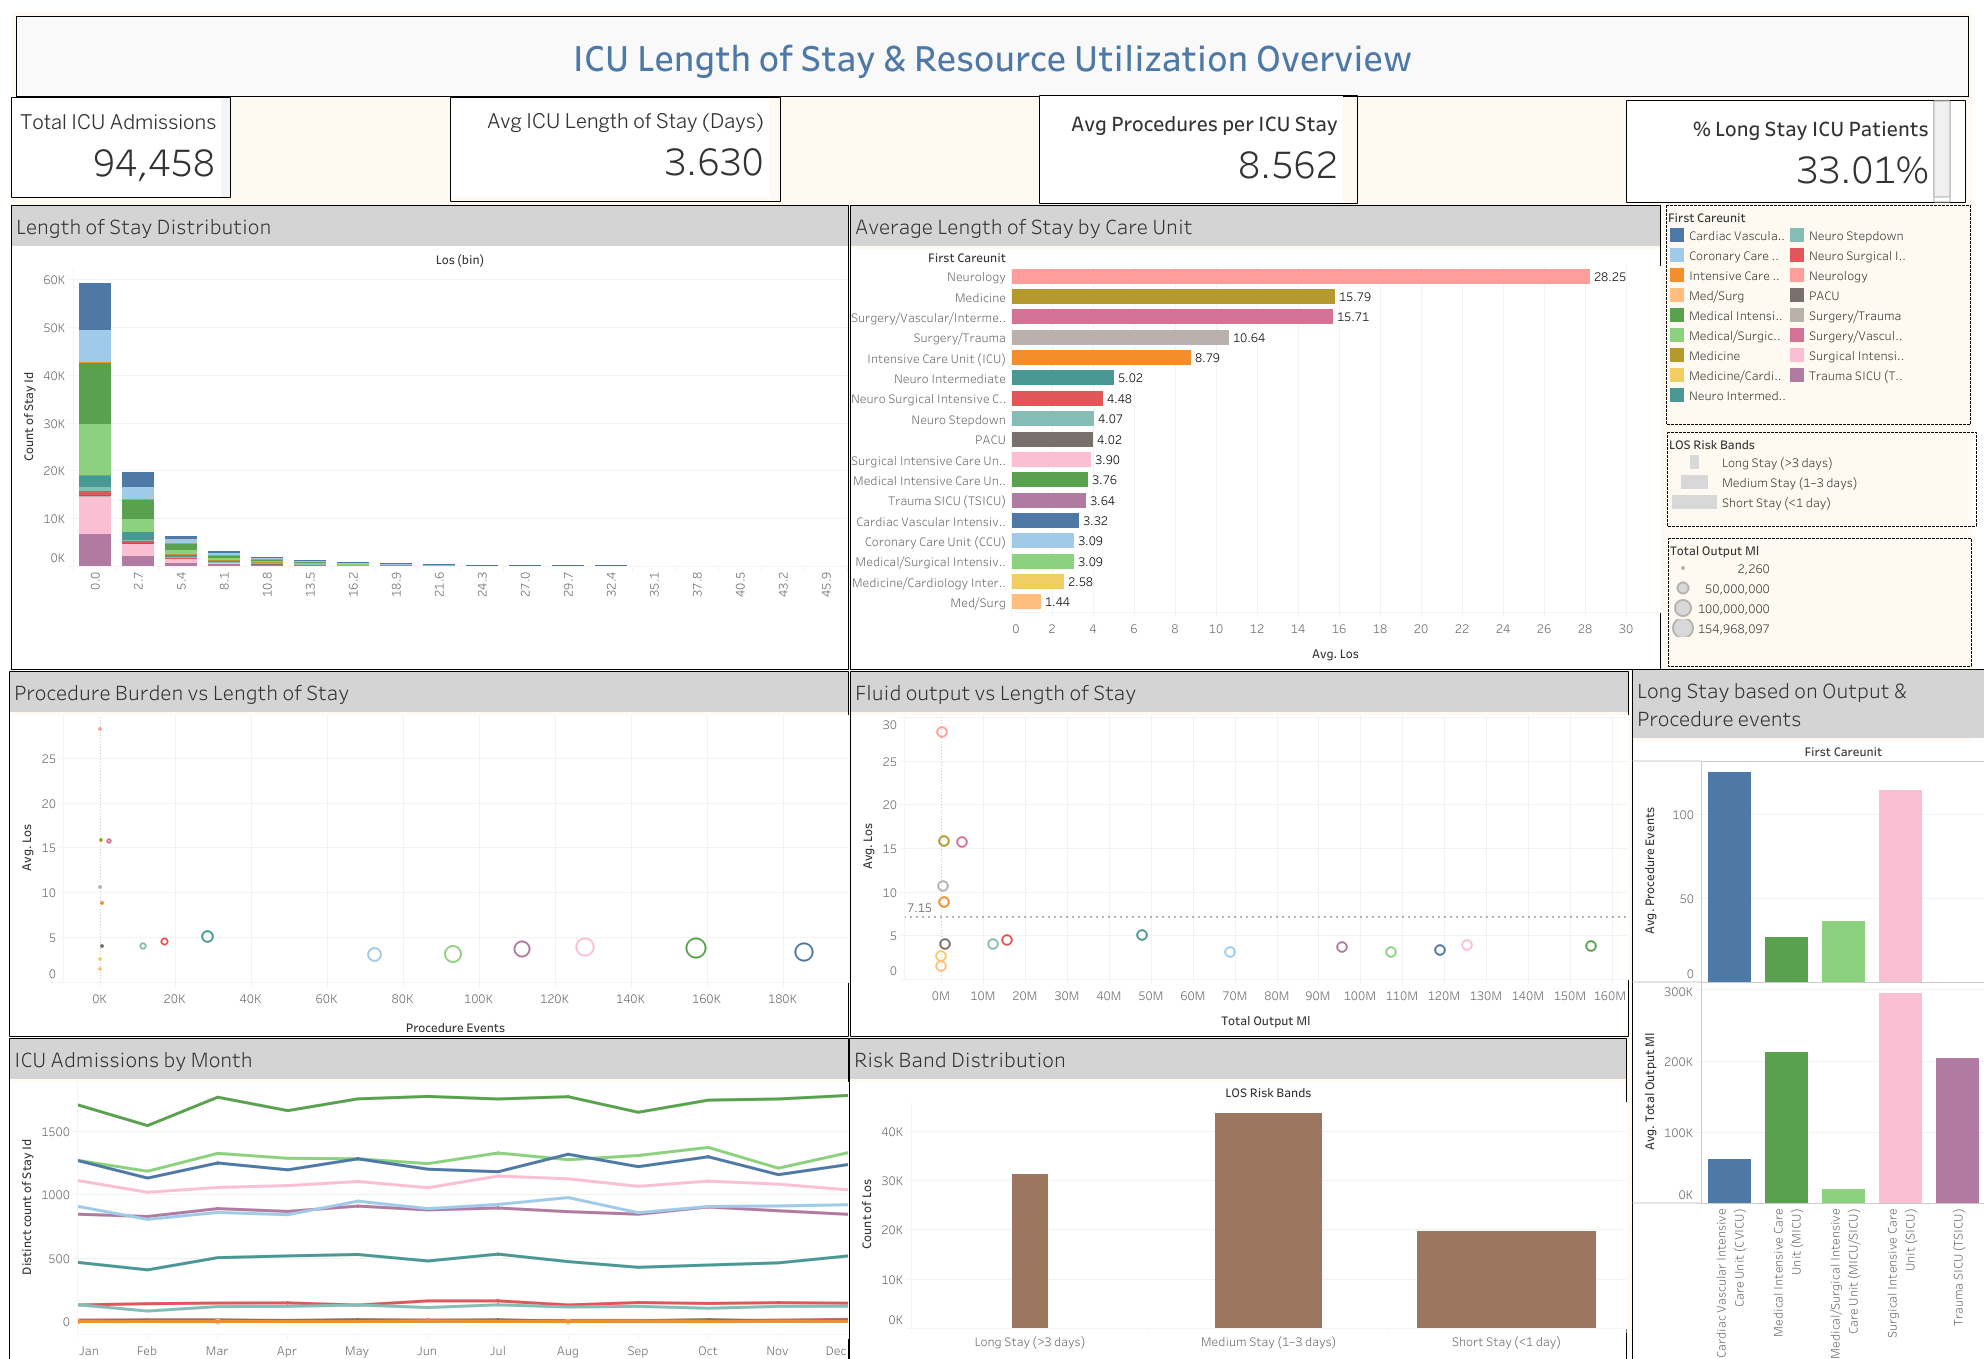

The page's visual inventory and layout, read from the dashboard file:
{"tool":"tableau","page":{"name":"ICU ","canvas":[1000,1000],"units":"permille","ordinal":0},"visuals":[{"type":"title","box":[6.2,8.8,987.5,65.4]},{"type":"worksheet","title":"Avg Procedure","mark":"Automatic","box":[523.4,69.9,160.9,80.2]},{"type":"worksheet","title":"Total ICU Stays","mark":"Automatic","box":[5.7,71.3,110.4,74.3]},{"type":"worksheet","title":"Avg LOS","mark":"Automatic","box":[226.6,71.3,166.7,77.2]},{"type":"worksheet","title":"% Long-Stay ICU Patients","mark":"Automatic","box":[819.3,73.5,171.3,75.7]},{"type":"worksheet","title":"Los Distribution","mark":"Automatic","rows":["stay_id"],"cols":["Los (bin)"],"box":[5.7,150.7,421.9,341.9]},{"type":"worksheet","title":"Los by ICU Unit","mark":"Automatic","rows":["first_careunit"],"cols":["los"],"box":[428.1,150.7,408.9,341.9]},{"type":"legend","title":"Los Distribution","param":"[federated.078h0ym0zan93g177wmn00syiqzv].[none:first_careunit:nk]","box":[839.1,150.7,153.7,161.8]},{"type":"legend","title":"Risk Band Distribution","param":"[federated.078h0ym0zan93g177wmn00syiqzv].[none:Calculation_4665588501177073666:n","box":[839.6,317.7,156.2,69.9]},{"type":"legend","title":"Procedure Burden vs LOS","param":"[federated.078h0ym0zan93g177wmn00syiqzv].[sum:total_output_ml:qk]","box":[840.1,395.6,153.1,94.9]},{"type":"worksheet","title":"Long Stay","mark":"Automatic","rows":["procedure_events","total_output_ml"],"cols":["first_careunit"],"box":[822.4,491.9,179.2,511.8]},{"type":"worksheet","title":"Procedure Burden vs LOS","mark":"Automatic","rows":["los"],"cols":["procedure_events"],"box":[4.7,493.4,422.9,269.1]},{"type":"worksheet","title":"Fluid output vs LOS ","mark":"Automatic","rows":["los"],"cols":["total_output_ml"],"box":[428.1,493.4,392.7,269.1]}]}

Visuals, with their boxes on the dashboard's canvas, which has no fixed pixel size, in thousandths of its width and height (x1, y1, x2, y2). These are canvas units, not pixel positions in the 1984x1359 screenshot, which may show the page scaled, cropped or inside an application window:
title: (left=6, top=9, right=994, bottom=74)
"Avg Procedure" worksheet: (left=523, top=70, right=684, bottom=150)
"Total ICU Stays" worksheet: (left=6, top=71, right=116, bottom=146)
"Avg LOS" worksheet: (left=227, top=71, right=393, bottom=148)
"% Long-Stay ICU Patients" worksheet: (left=819, top=74, right=991, bottom=149)
"Los Distribution" worksheet: (left=6, top=151, right=428, bottom=493)
"Los by ICU Unit" worksheet: (left=428, top=151, right=837, bottom=493)
"Los Distribution" legend: (left=839, top=151, right=993, bottom=312)
"Risk Band Distribution" legend: (left=840, top=318, right=996, bottom=388)
"Procedure Burden vs LOS" legend: (left=840, top=396, right=993, bottom=490)
"Long Stay" worksheet: (left=822, top=492, right=1002, bottom=1004)
"Procedure Burden vs LOS" worksheet: (left=5, top=493, right=428, bottom=762)
"Fluid output vs LOS " worksheet: (left=428, top=493, right=821, bottom=762)
